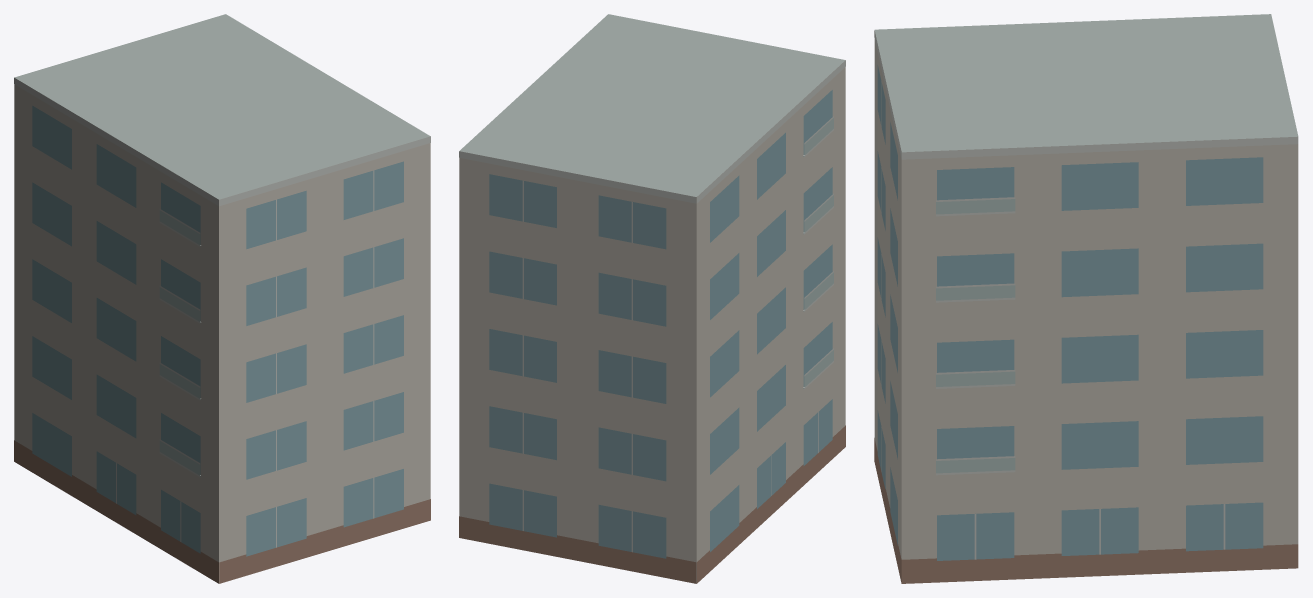
The model's file is survey-upis-32699767.glb.
3 views of the same model, side by side, from view 1: azimuth 30°, elevation 25°; view 2: azimuth 150°, elevation 25°; view 3: azimuth 270°, elevation 25° (orthographic). The views are drawn at different scales.
Parts seen in each view (by area): view 1: survey-upis-32699767.tmp; view 2: survey-upis-32699767.tmp; view 3: survey-upis-32699767.tmp.
Boxes of the visible parts, <box> form: survey-upis-32699767.tmp: <box>14,14,430,583</box>; survey-upis-32699767.tmp: <box>459,14,845,583</box>; survey-upis-32699767.tmp: <box>874,14,1298,583</box>.
Size of the model in its own units: 9.84 by 14.3 by 12.74.
